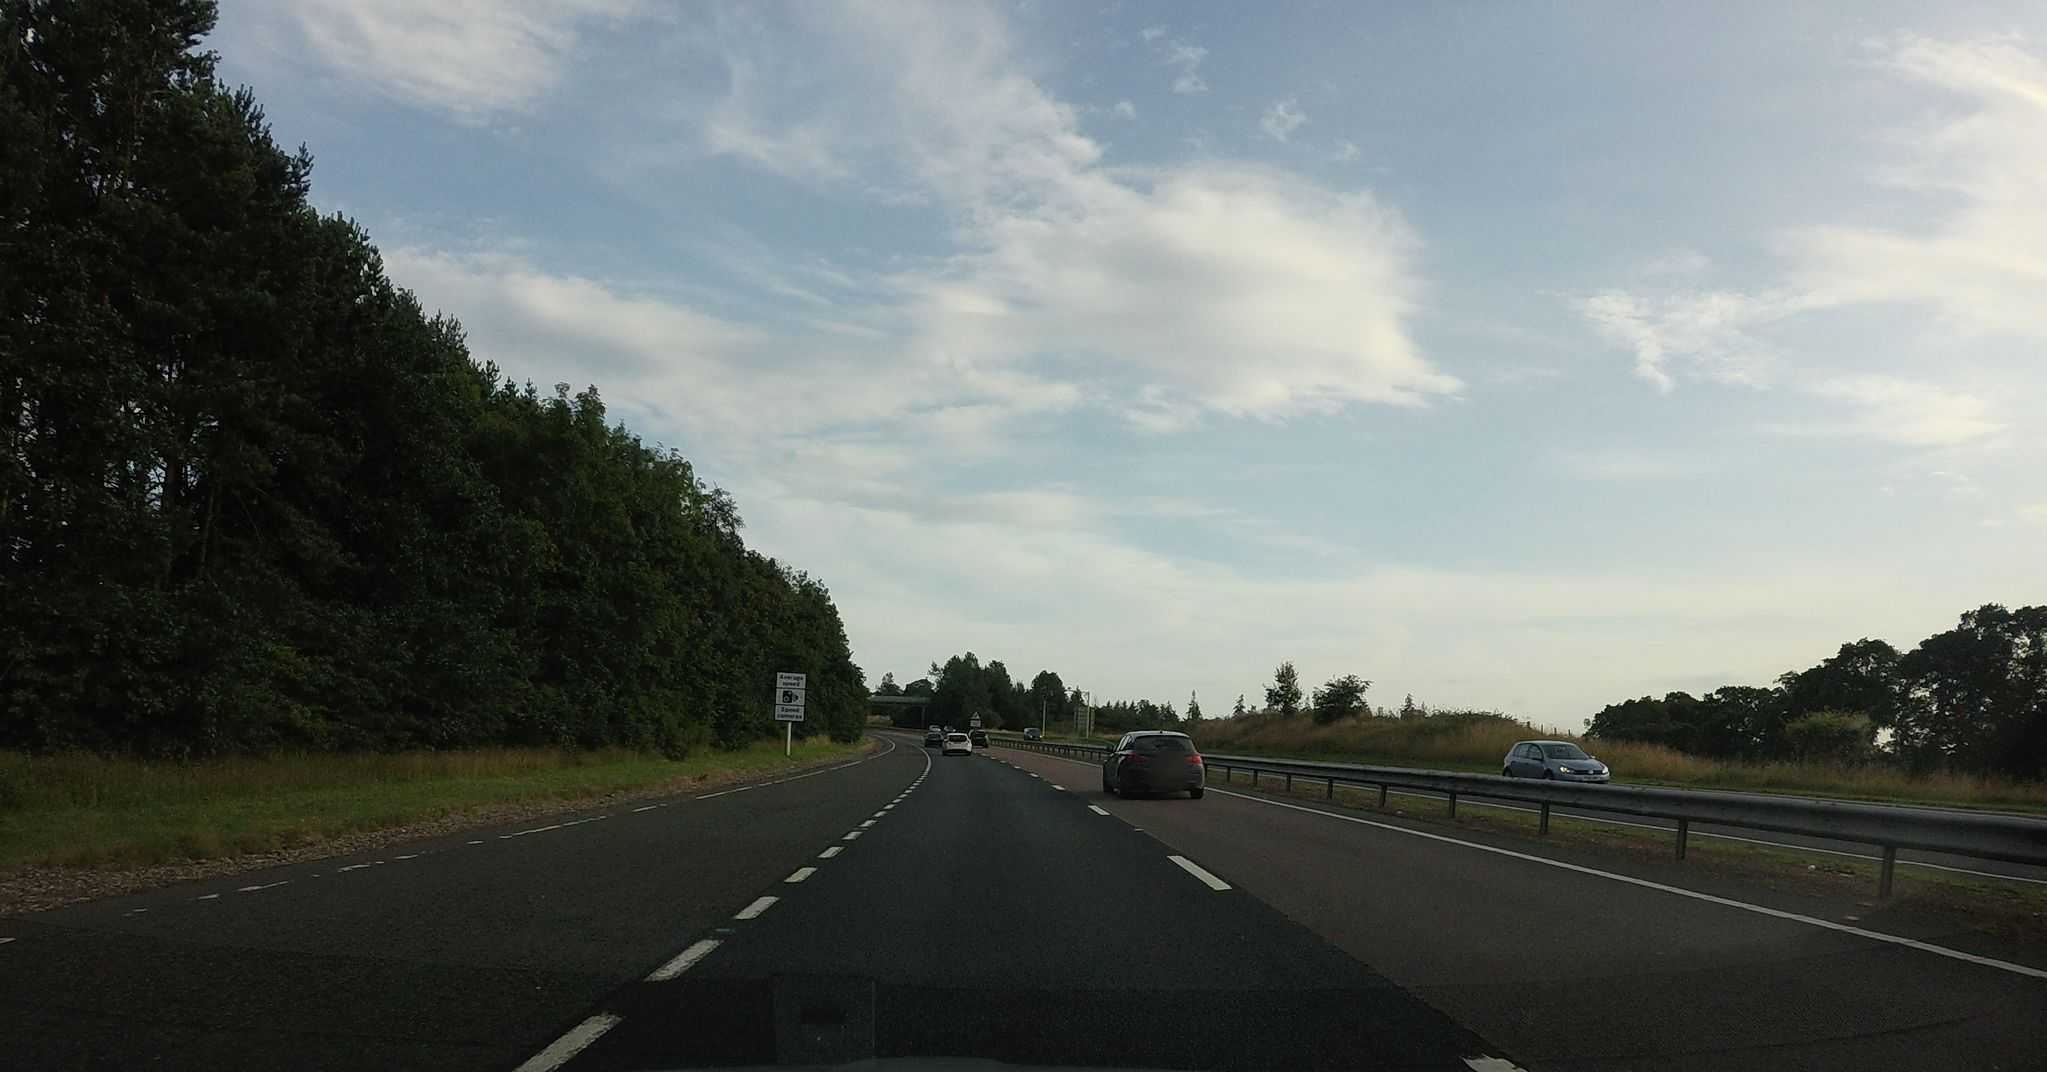car: (1102, 730, 1206, 801), (1500, 739, 1611, 786), (941, 732, 972, 754), (968, 730, 990, 749), (923, 732, 944, 749), (1023, 727, 1042, 742)
